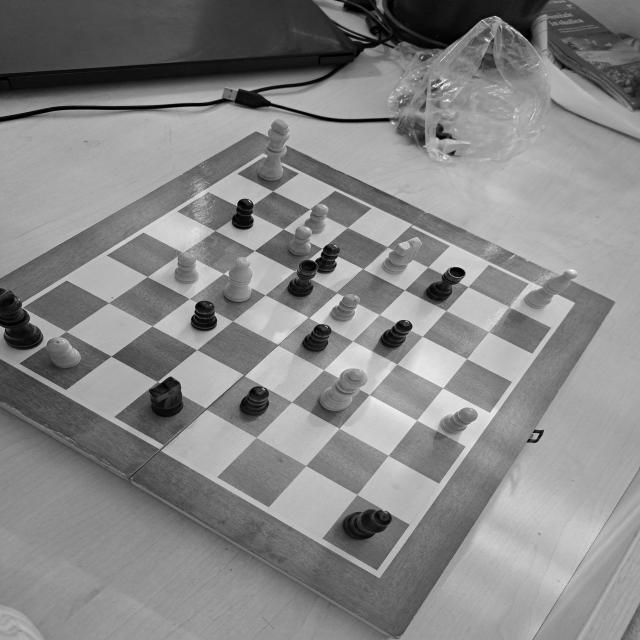chess-table-corners: (360, 559, 394, 582), (253, 150, 275, 164), (559, 298, 579, 310)
